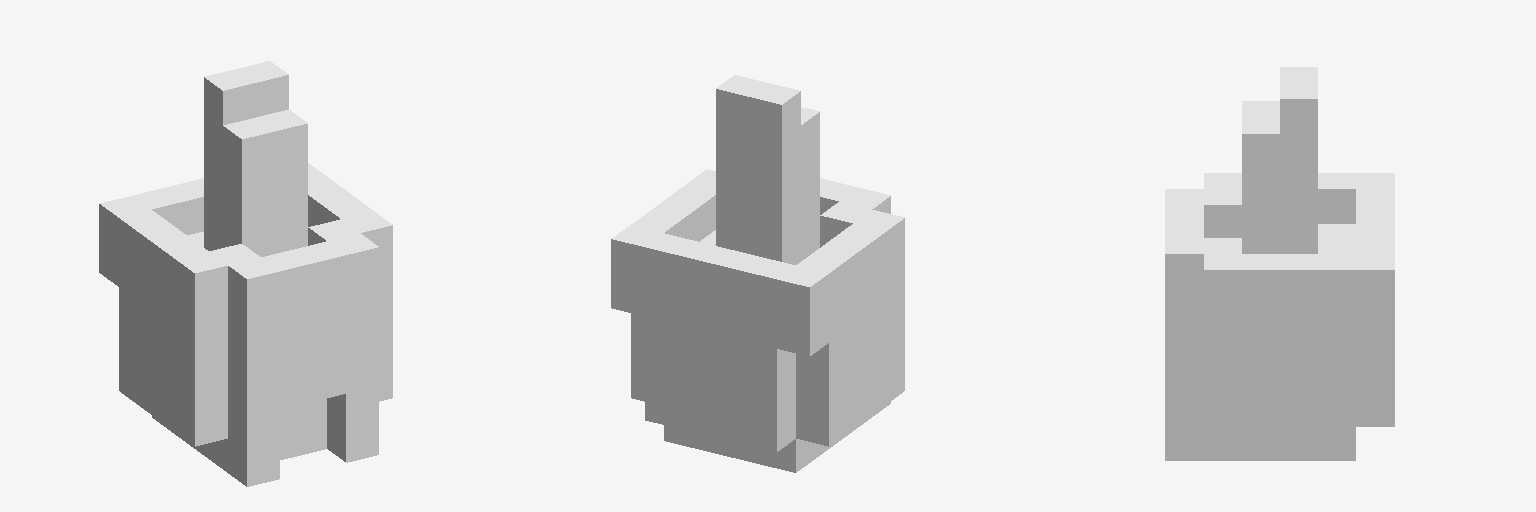
Rendered from Leg-25.obj.
3 views of the same model, side by side, from view 1: azimuth 30°, elevation 25°; view 2: azimuth 150°, elevation 25°; view 3: azimuth 270°, elevation 25° (orthographic).
Visible parts, largest first — view 1: object 1; view 2: object 1; view 3: object 1.
Part boxes in pixels (x1,y1,x2,y2): object 1: (99,61,392,486); object 1: (611,75,904,472); object 1: (1165,67,1394,460).
Bounding box in the file's own units: 0.6 × 1 × 0.6.